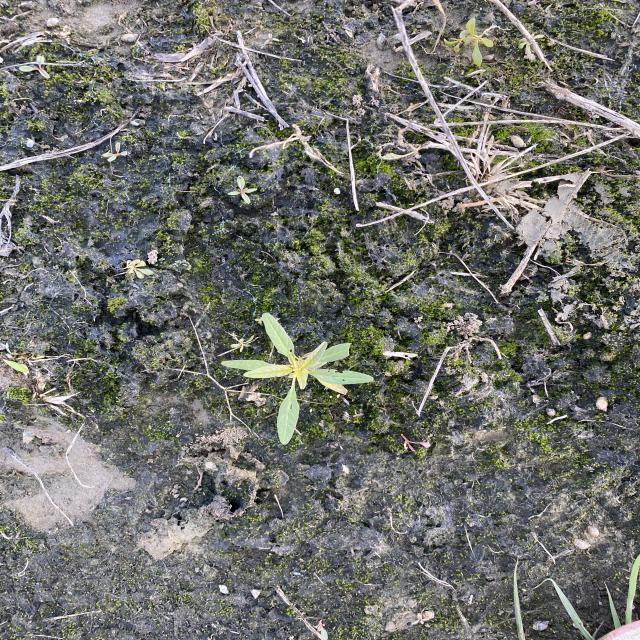Waterhemp: (218, 312, 376, 446)
